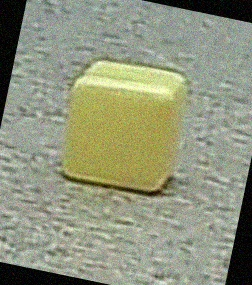yellow_cube: (46, 52, 194, 198)
